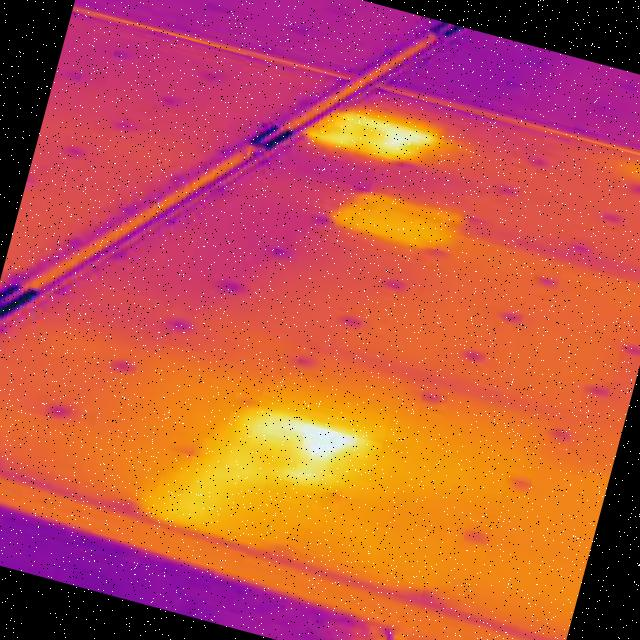Hotspot: (143, 380, 381, 591), (312, 170, 474, 268), (298, 91, 444, 180), (620, 149, 640, 193)
